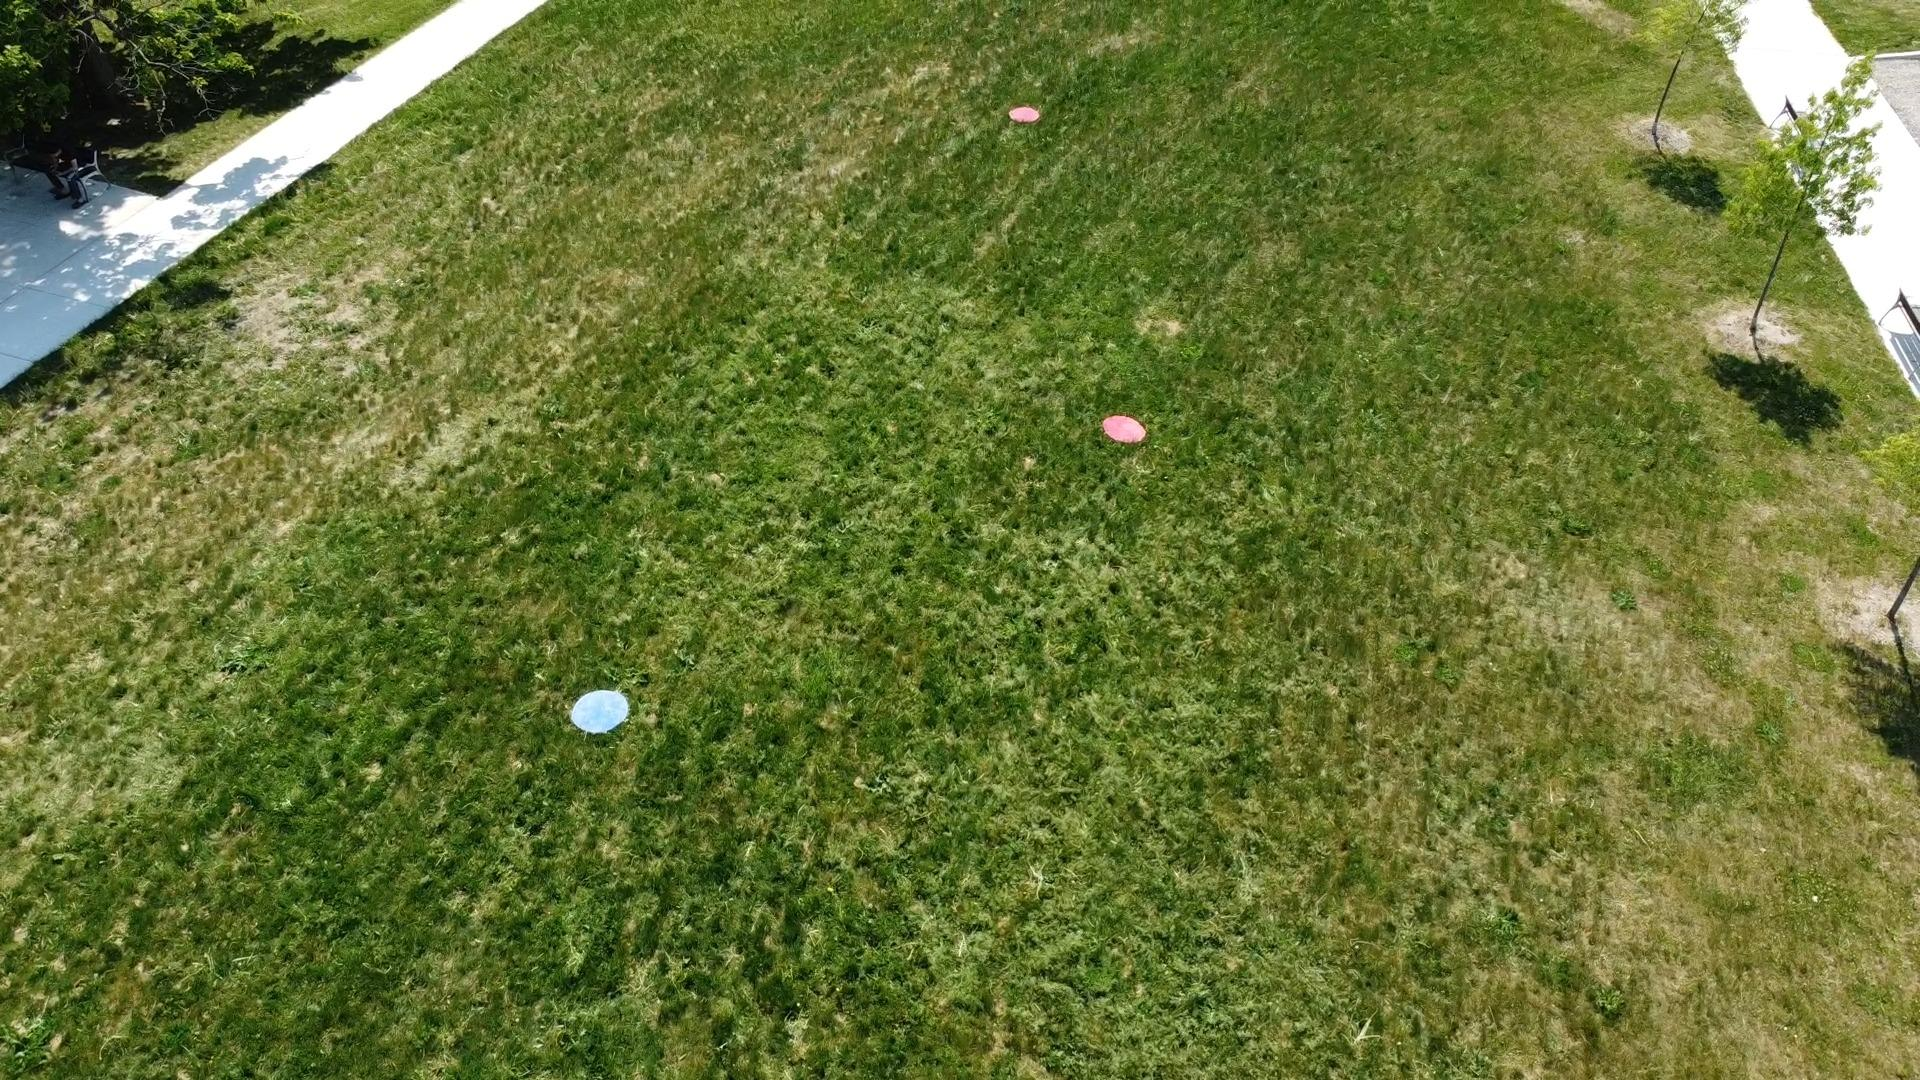Blue: (568, 687, 636, 735)
Red: (1101, 413, 1149, 446), (1006, 103, 1042, 125)
